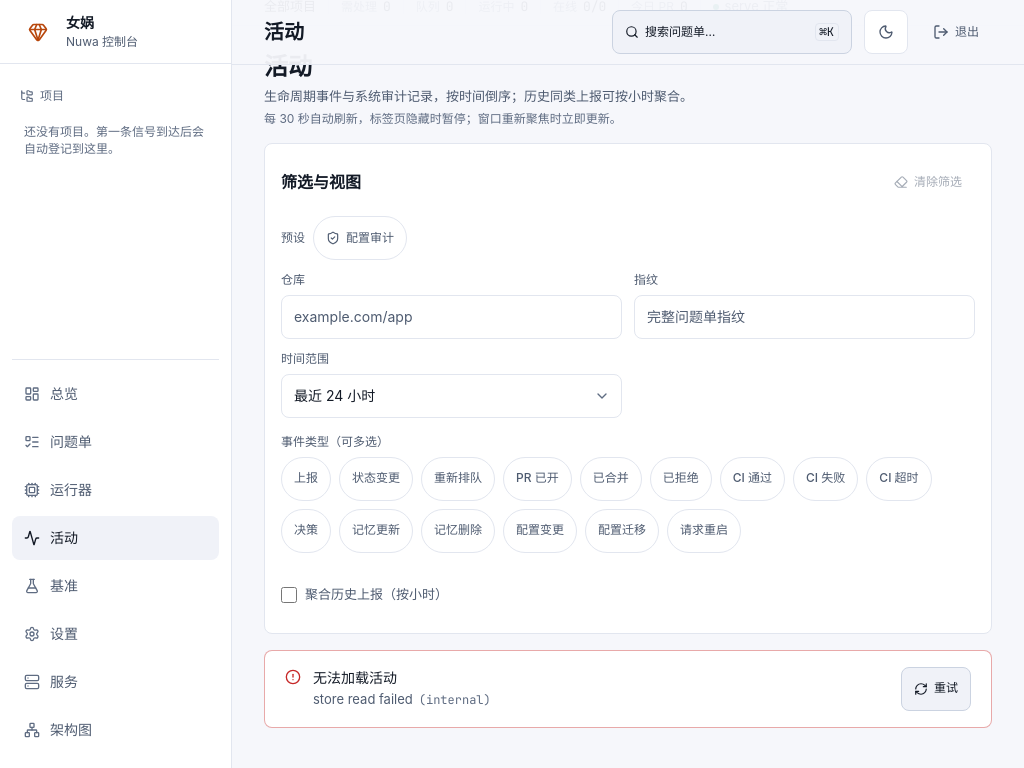
EventsPage › shows a retryable error when the feed fails
(page scrolled)
Expected: the message shows "无法加载活动", [313,669,397,686]
Expected: the message shows "store read failed", [313,692,413,708]
What coordinates should you click on to do the following:
click the button "重试"
I would click on:
 (936, 689)
Its box is [901,667,971,711].
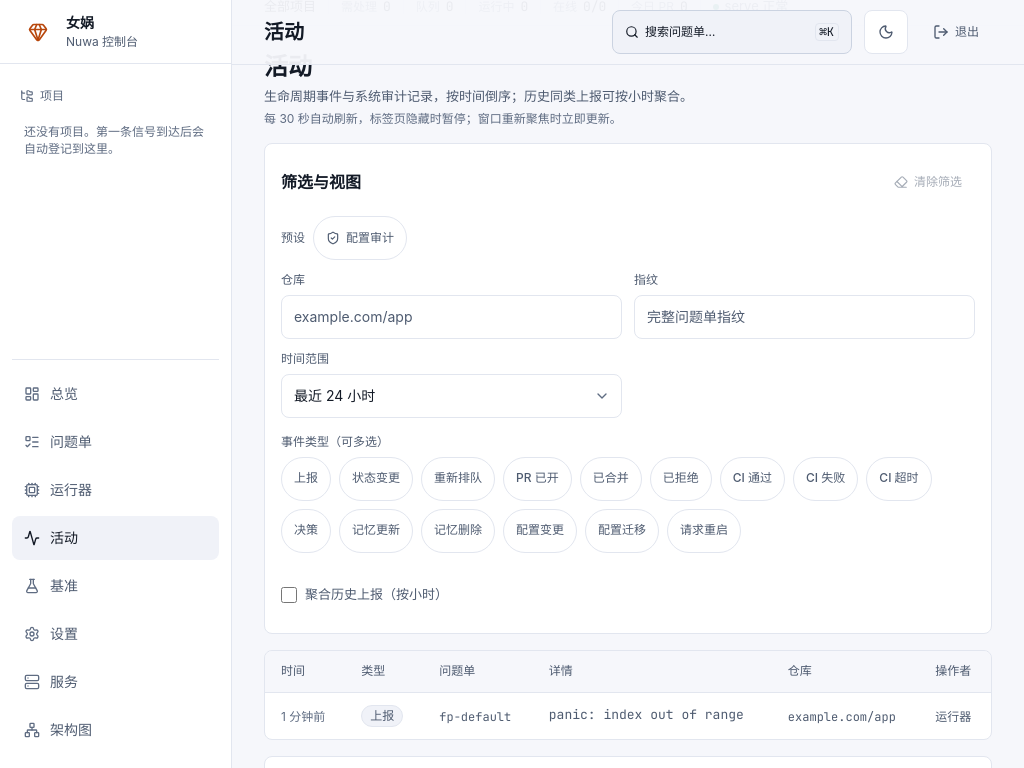
Expected: the element named "活动列表" is shown, [264,650,992,740]
